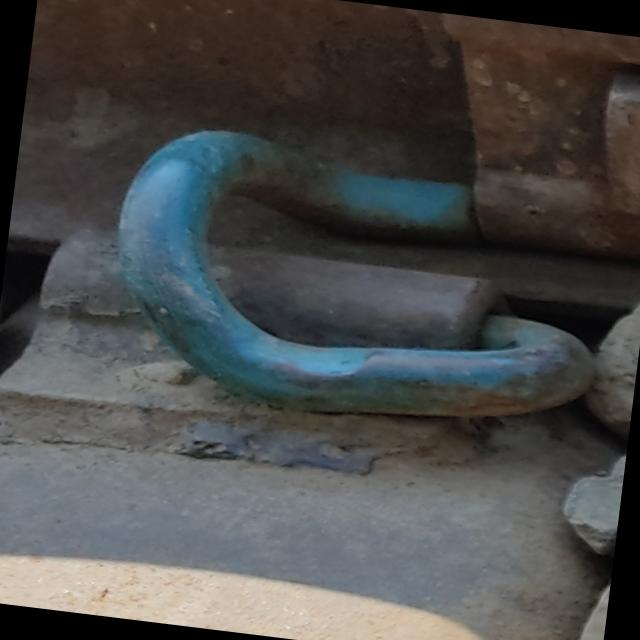track_bolt: (77, 99, 630, 458)
